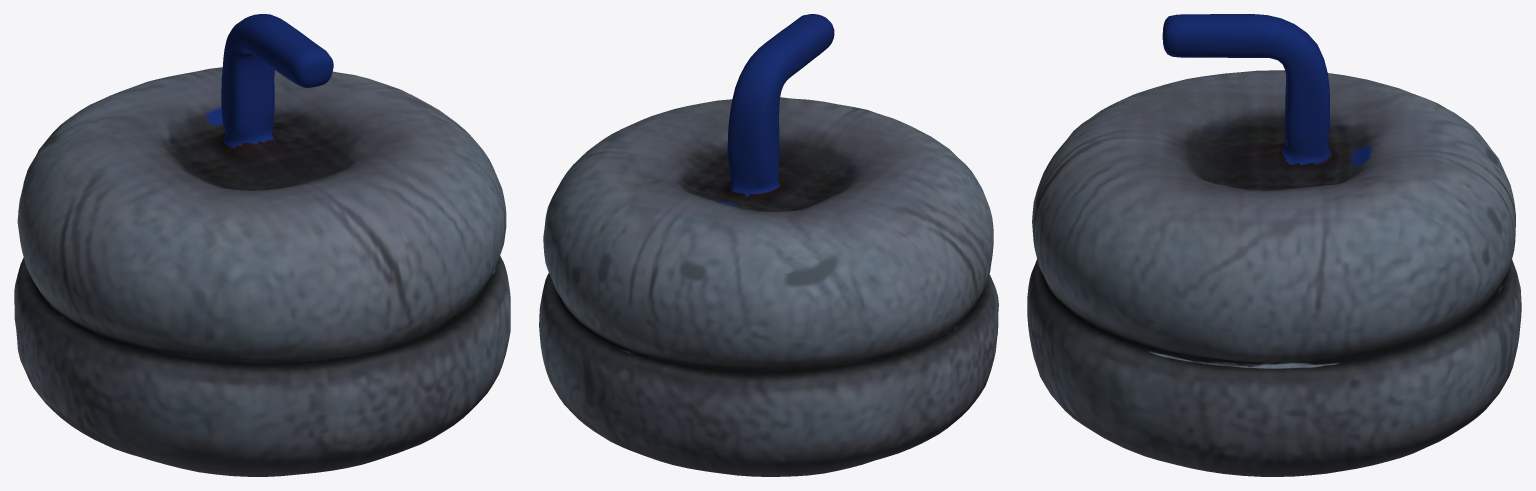
File: BlueStone.fbx
3 renders of one model, left to right at view 1: azimuth 30°, elevation 25°; view 2: azimuth 150°, elevation 25°; view 3: azimuth 270°, elevation 25°, orthographic. The views are drawn at different scales.
Visible parts, largest first — view 1: mesh; view 2: mesh; view 3: mesh.
Part boxes in pixels (x1,y1,x2,y2): mesh: (14, 14, 510, 476); mesh: (539, 14, 998, 476); mesh: (1027, 14, 1521, 476).
Size of the model in its own units: 99.83 by 86.53 by 99.86.
1 material, 1 textured.
